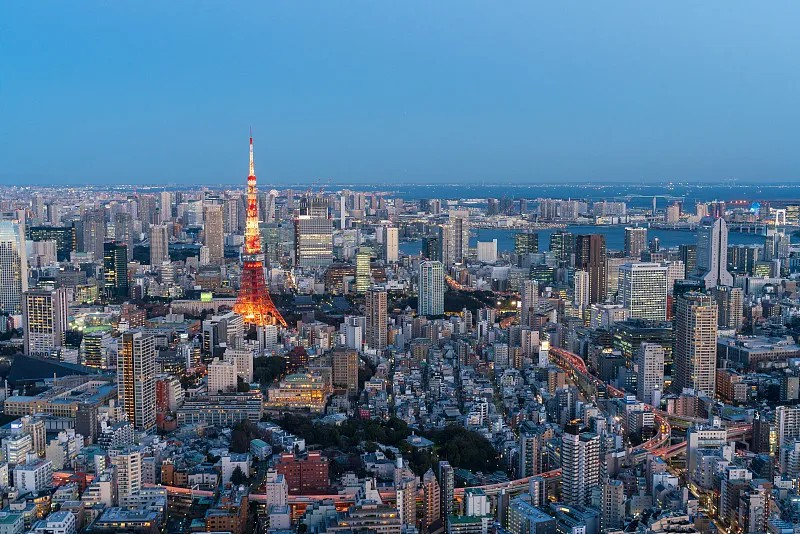Tokyo: (228, 123, 288, 329)
